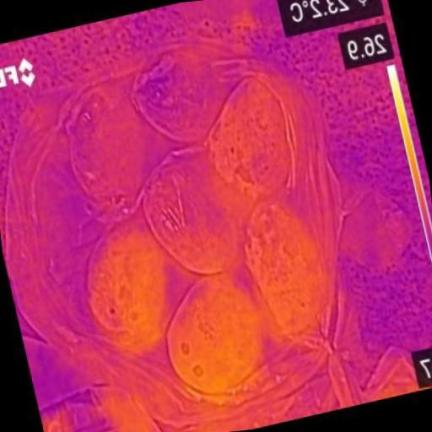mango: (144, 149, 243, 274), (245, 201, 331, 335), (168, 274, 263, 393), (209, 77, 294, 198), (88, 227, 166, 352), (69, 86, 145, 199), (133, 52, 222, 142)
